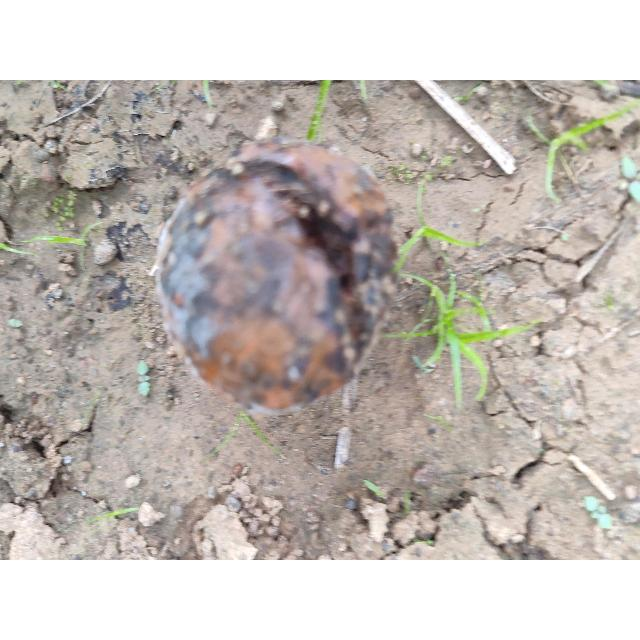damaged: (155, 137, 397, 413)
